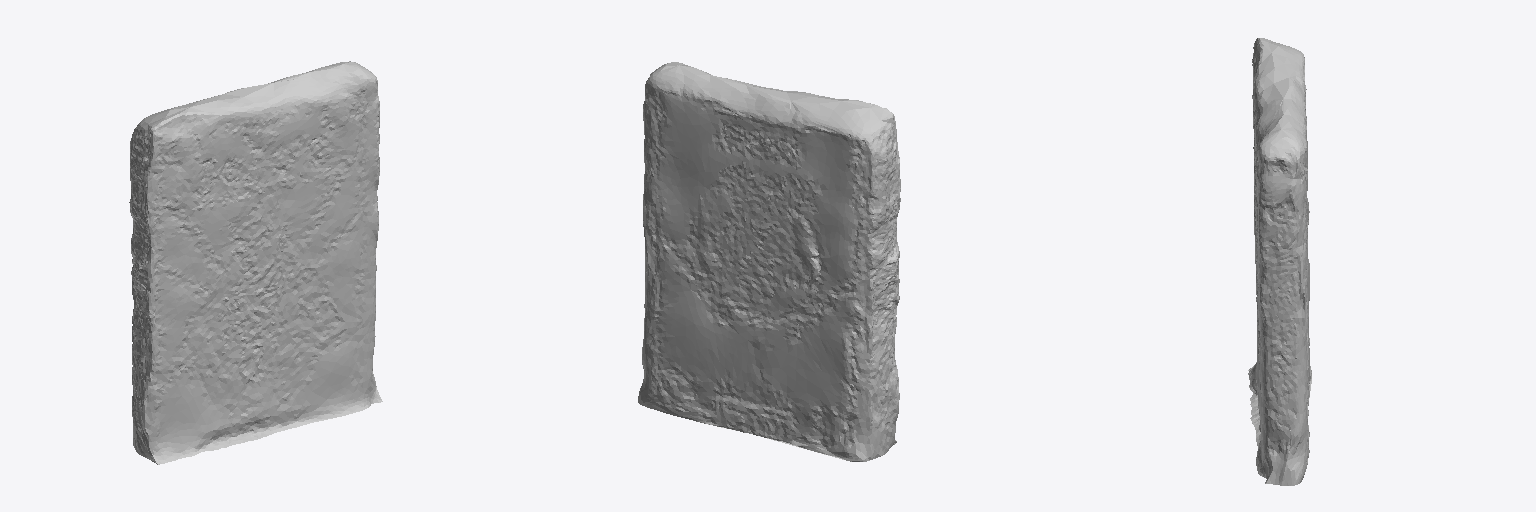
Rendered from JoJo Book 2.obj.
The picture shows the model from 3 angles: view 1: azimuth 30°, elevation 25°; view 2: azimuth 150°, elevation 25°; view 3: azimuth 270°, elevation 25°; orthographic projection.
Parts seen in each view (by area): view 1: poly; view 2: poly; view 3: poly.
Part boxes in pixels (bbox=[...]): poly: bbox=[129, 61, 382, 464]; poly: bbox=[638, 62, 900, 461]; poly: bbox=[1248, 38, 1311, 485].
Size of the model in its own units: 1.9 by 2.51 by 0.4349.